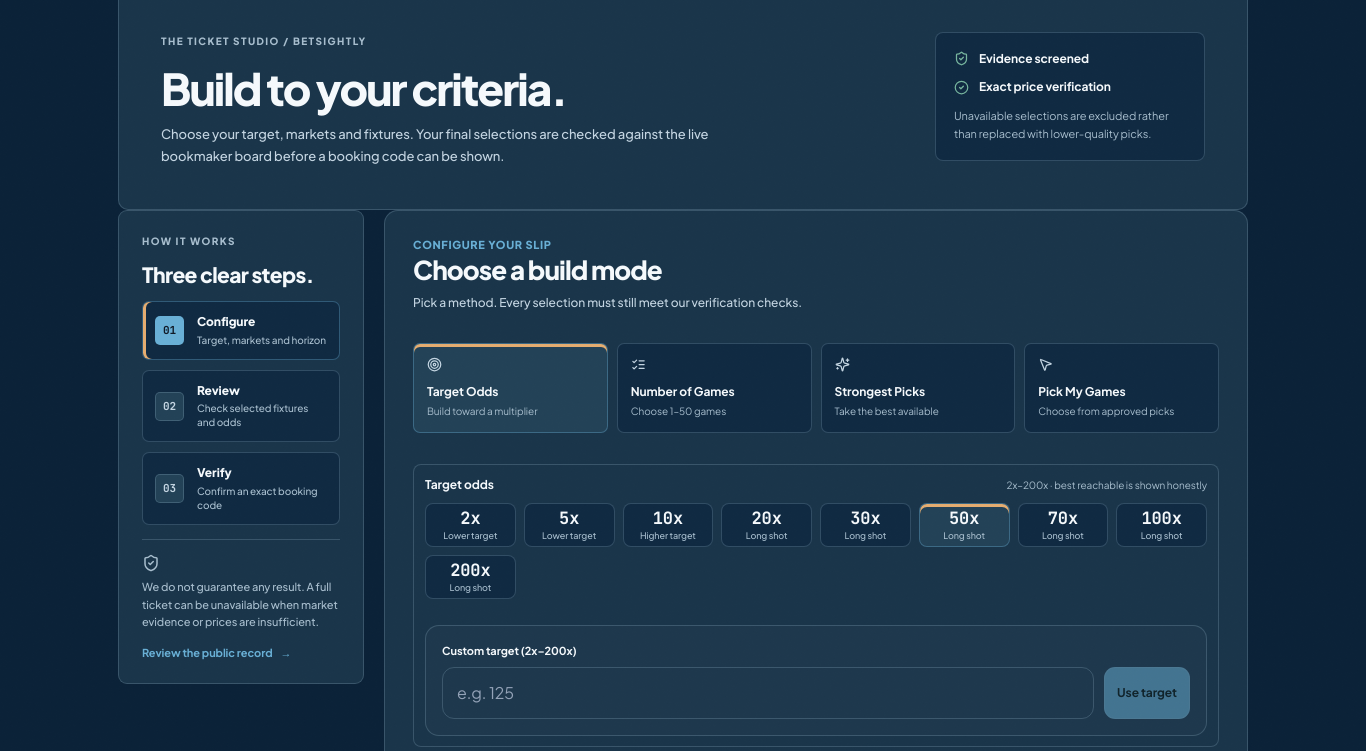
Scenario: does not offer an unusable CTA below the public 2x minimum
This screenshot has width=1366, height=751.
Click the button "10x Higher target" at (668, 524), box [622,502,713,546]
(page scrolled)
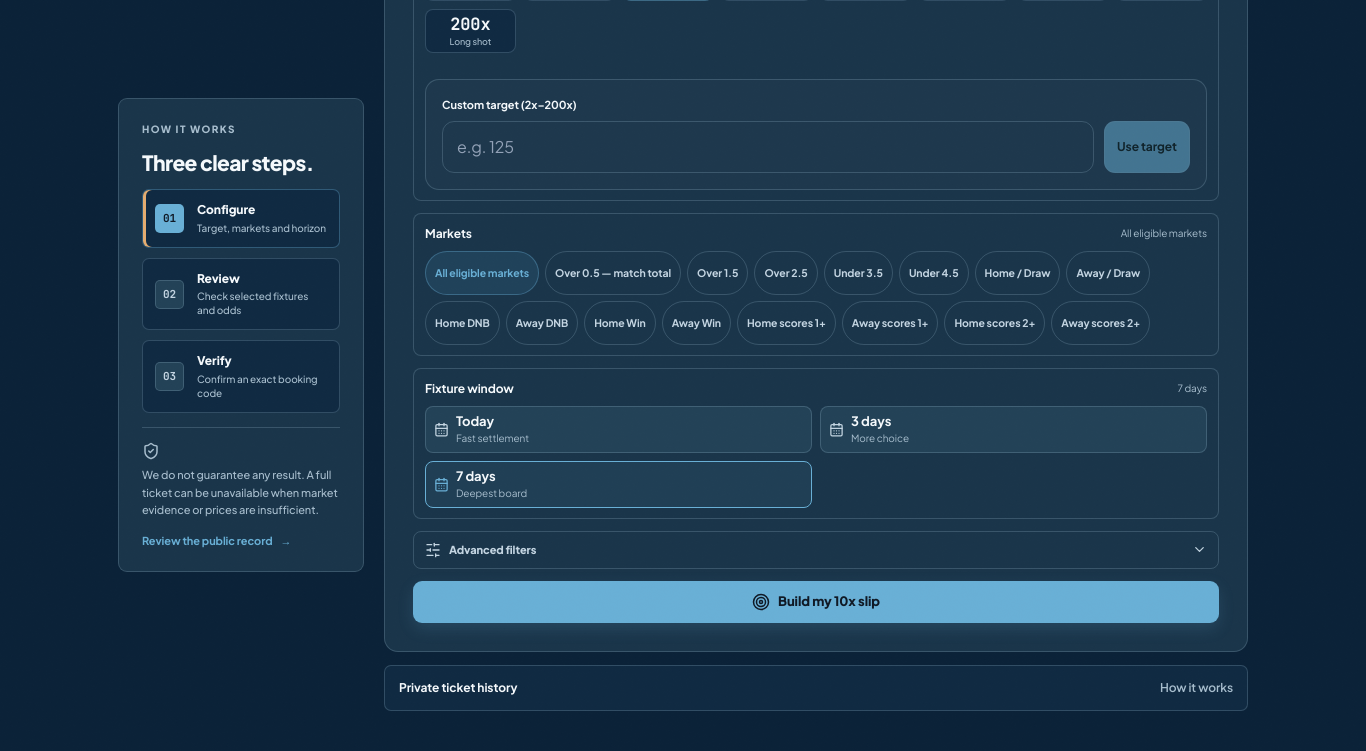
Click the button "Build my 10x slip" at (816, 602), box [413,580,1219,622]
(page scrolled)
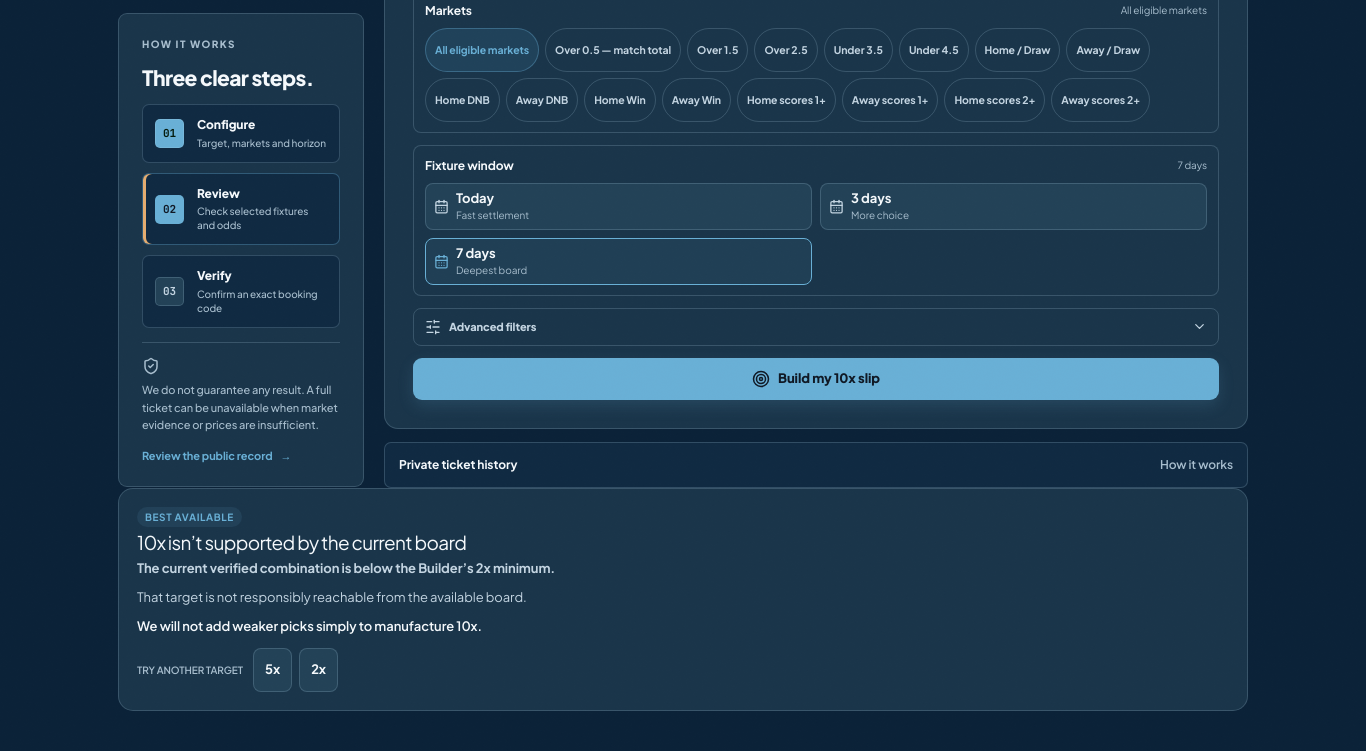
Check: the text "below the Builder’s 2x minimum" is shown, box [137,560,555,576]
